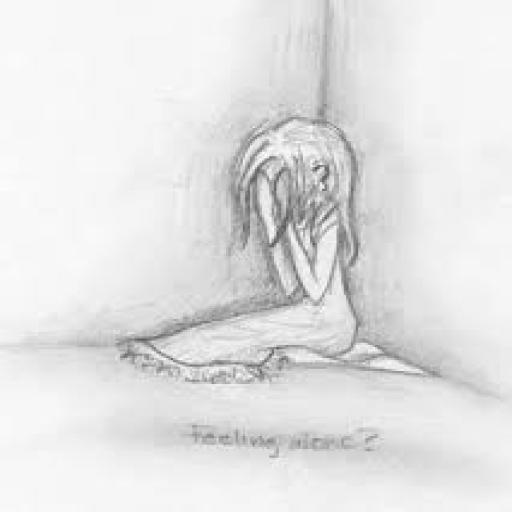person: (112, 103, 407, 425)
